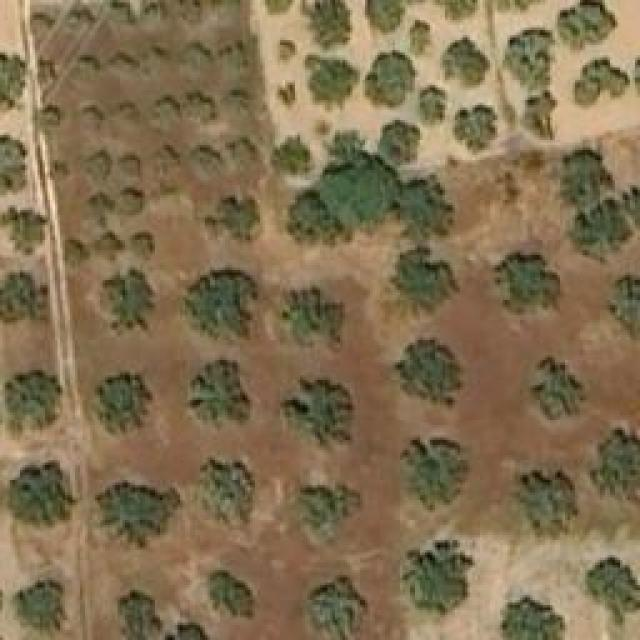Tree: (400, 435, 480, 510), (95, 480, 183, 548), (188, 265, 261, 345), (403, 540, 473, 615), (395, 340, 468, 410), (283, 373, 353, 446), (512, 468, 580, 541), (323, 157, 393, 225), (7, 460, 75, 528), (188, 360, 253, 428), (493, 253, 563, 316), (590, 428, 640, 513), (97, 265, 155, 335), (197, 457, 255, 525), (308, 575, 368, 640), (585, 555, 640, 625), (527, 355, 586, 418), (575, 203, 634, 265), (5, 370, 63, 433), (295, 478, 363, 531), (98, 373, 153, 436), (283, 288, 346, 343), (365, 48, 418, 108), (398, 250, 448, 313), (505, 27, 559, 85), (15, 577, 68, 635), (0, 270, 50, 330), (560, 147, 610, 206), (500, 597, 565, 640), (572, 57, 630, 105), (282, 192, 340, 240), (205, 193, 260, 243), (400, 178, 445, 238), (440, 35, 490, 88), (305, 55, 358, 100), (0, 207, 48, 255), (207, 570, 255, 618), (118, 590, 163, 640), (564, 0, 617, 42), (515, 90, 559, 140), (310, 0, 355, 48), (453, 105, 498, 153), (0, 54, 28, 115), (612, 278, 640, 338), (380, 118, 418, 161), (0, 135, 25, 198), (270, 137, 310, 175), (420, 85, 448, 128), (367, 0, 404, 32), (93, 233, 125, 263), (513, 153, 546, 178), (440, 0, 477, 22), (117, 187, 145, 215), (187, 150, 215, 178), (182, 97, 210, 125), (112, 105, 140, 133), (75, 103, 103, 131), (60, 238, 87, 267), (35, 103, 61, 133), (410, 20, 430, 55), (153, 100, 176, 130), (133, 232, 156, 260), (183, 47, 206, 75), (140, 8, 168, 31), (143, 50, 163, 80), (105, 5, 130, 28), (178, 3, 201, 28), (78, 57, 98, 85), (88, 152, 108, 180), (215, 0, 240, 22), (110, 55, 133, 78), (88, 195, 111, 218), (277, 80, 295, 108), (277, 40, 295, 63), (118, 157, 141, 175), (30, 15, 50, 30)
